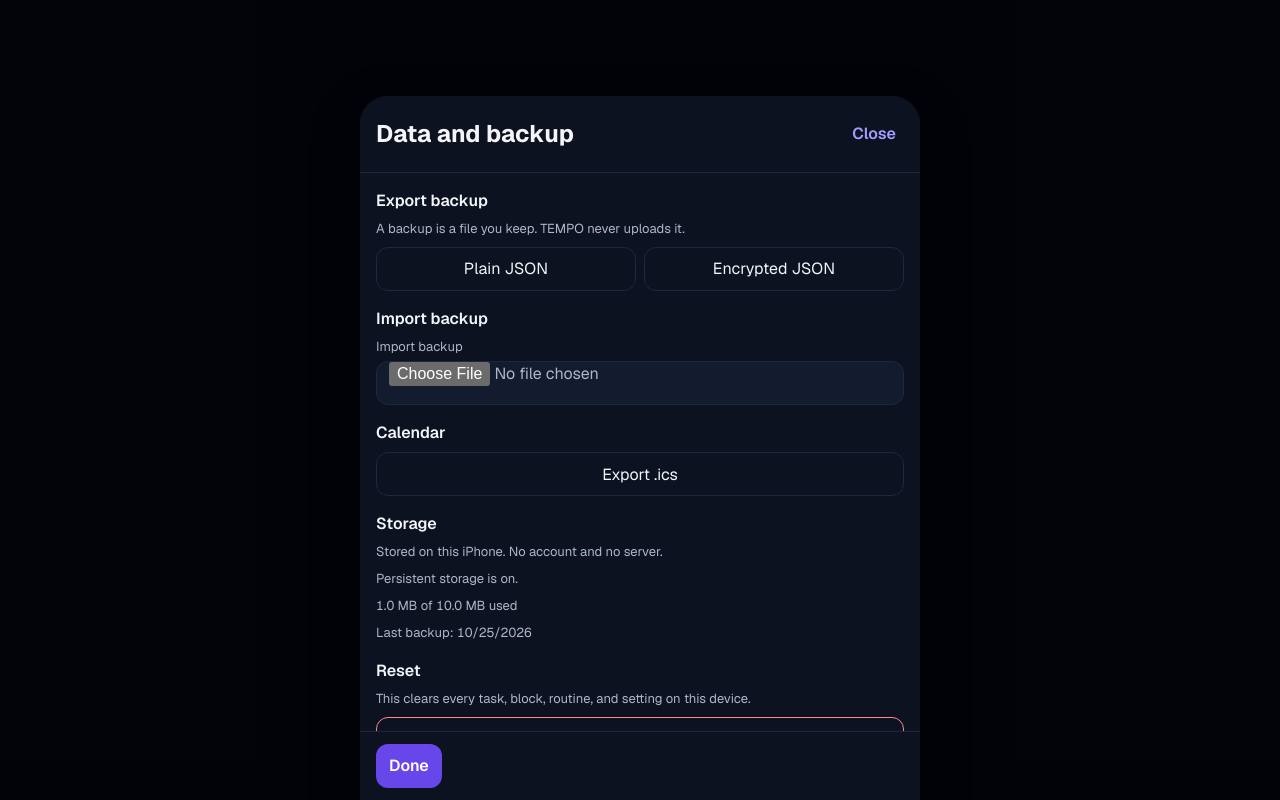
exports a plain backup and requires a long, confirmed passphrase for encryption
Click the button "Plain JSON" at {"x": 506, "y": 269}, box [376,247,636,291]
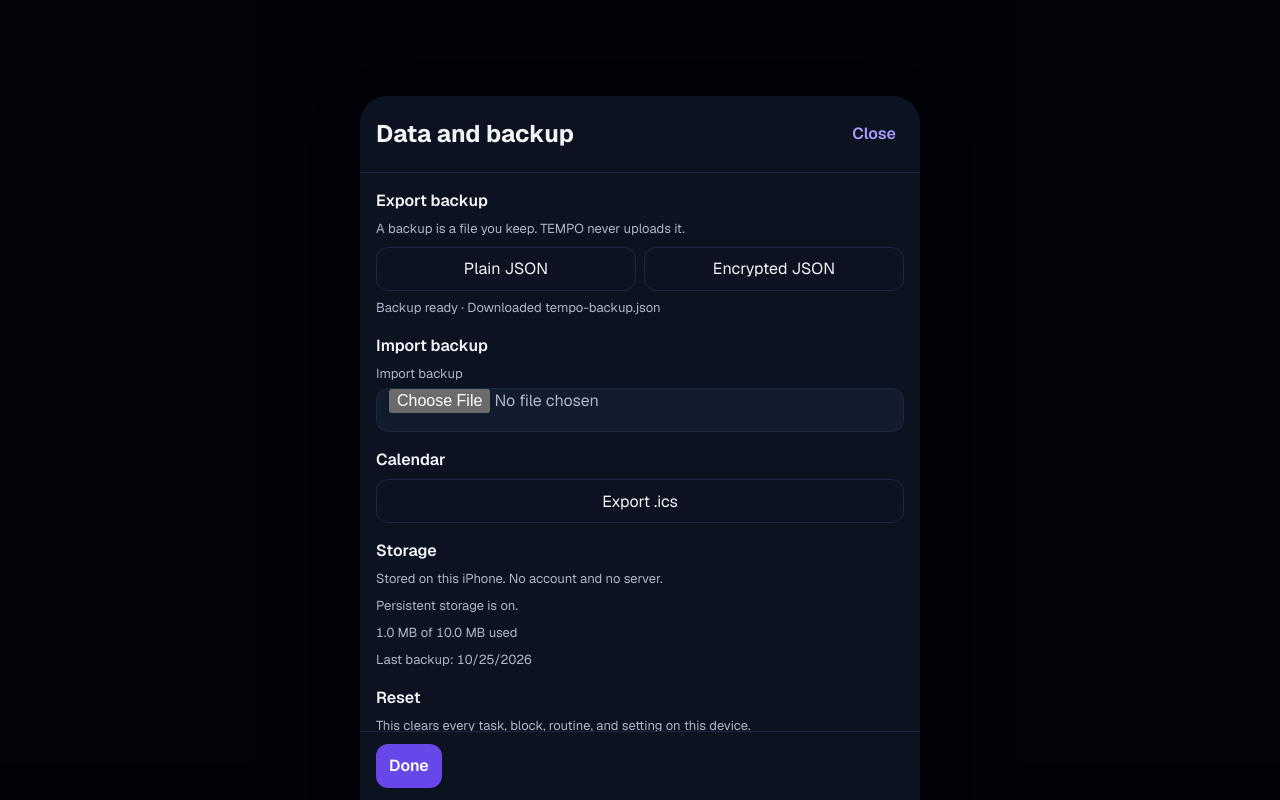
Expected: the text "Backup ready · Downloaded tempo-backup.json" is shown, [376,299,661,316]
Click the button "Encrypted JSON" at {"x": 774, "y": 269}, box [644,247,904,291]
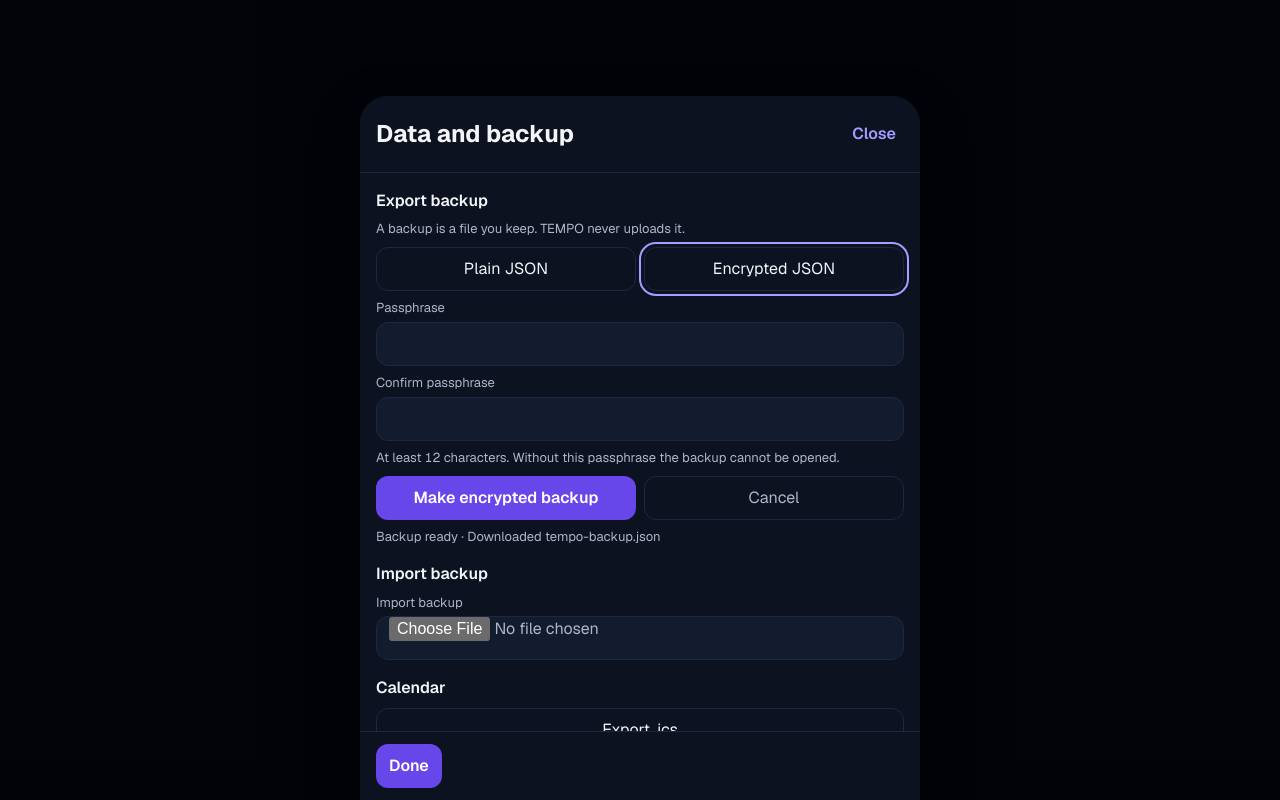
Type "short" into the password field labelled "Passphrase" at {"x": 640, "y": 344}, box [376,322,904,366]
Type "short" into the password field labelled "Confirm passphrase" at {"x": 640, "y": 419}, box [376,397,904,441]
Click the button "Make encrypted backup" at {"x": 506, "y": 498}, box [376,476,636,520]
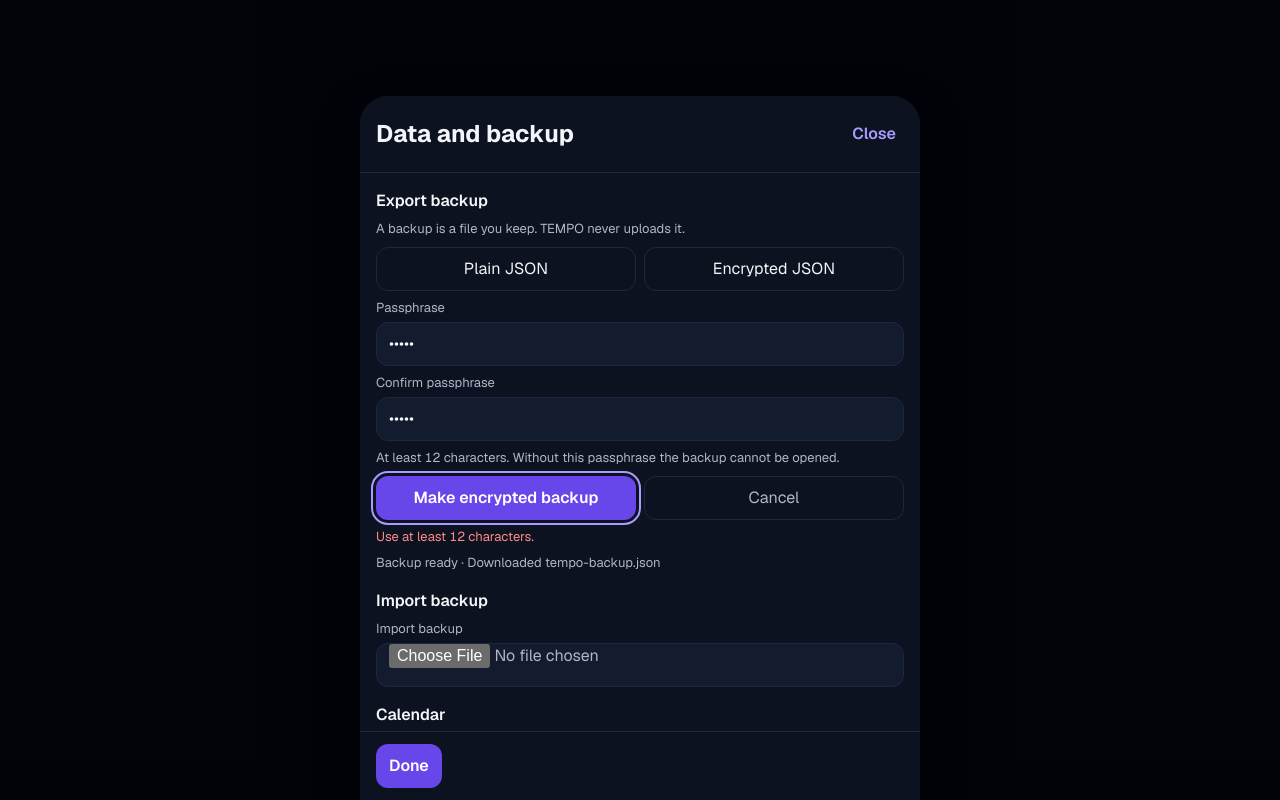
Expected: the message "Use at least 12 characters." is shown, [376,528,534,545]
Type "correct horse battery staple" into the password field labelled "Passphrase" at {"x": 640, "y": 344}, box [376,322,904,366]
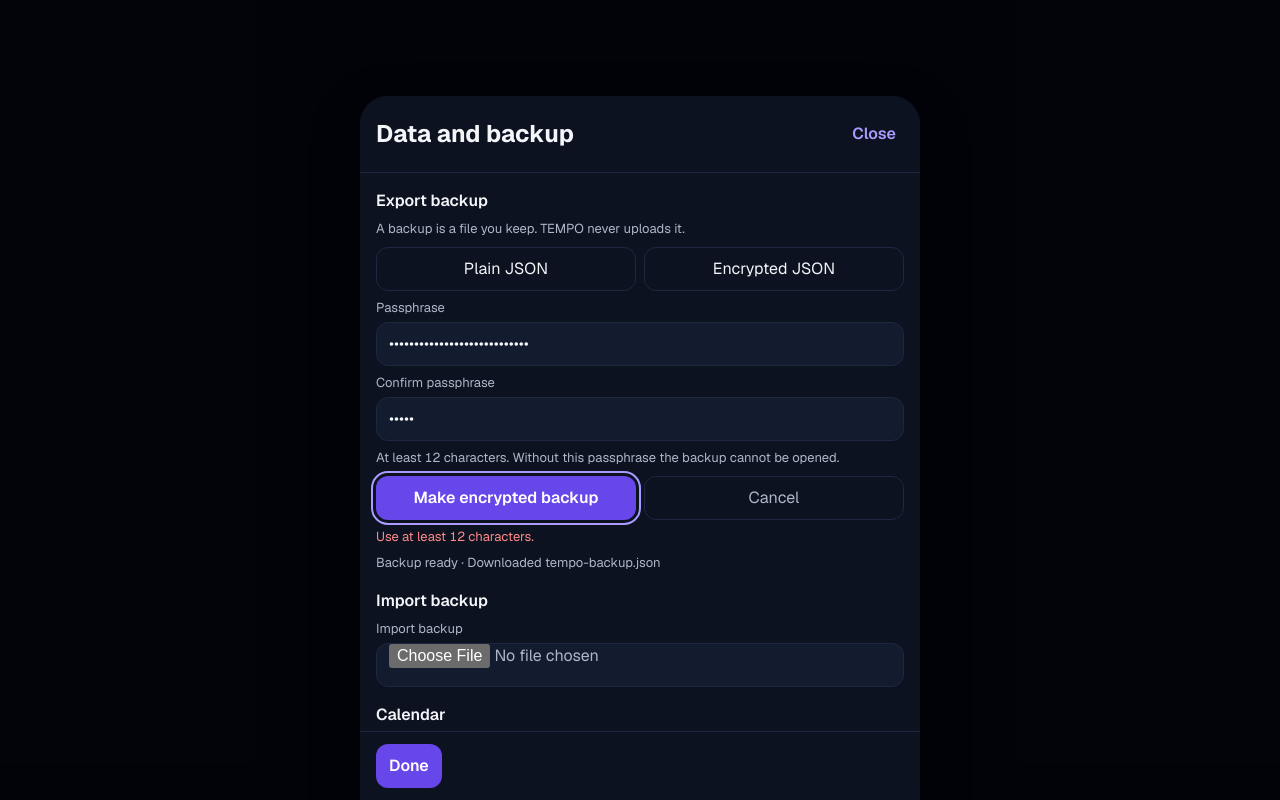
Type "correct horse battery staple" into the password field labelled "Confirm passphrase" at {"x": 640, "y": 419}, box [376,397,904,441]
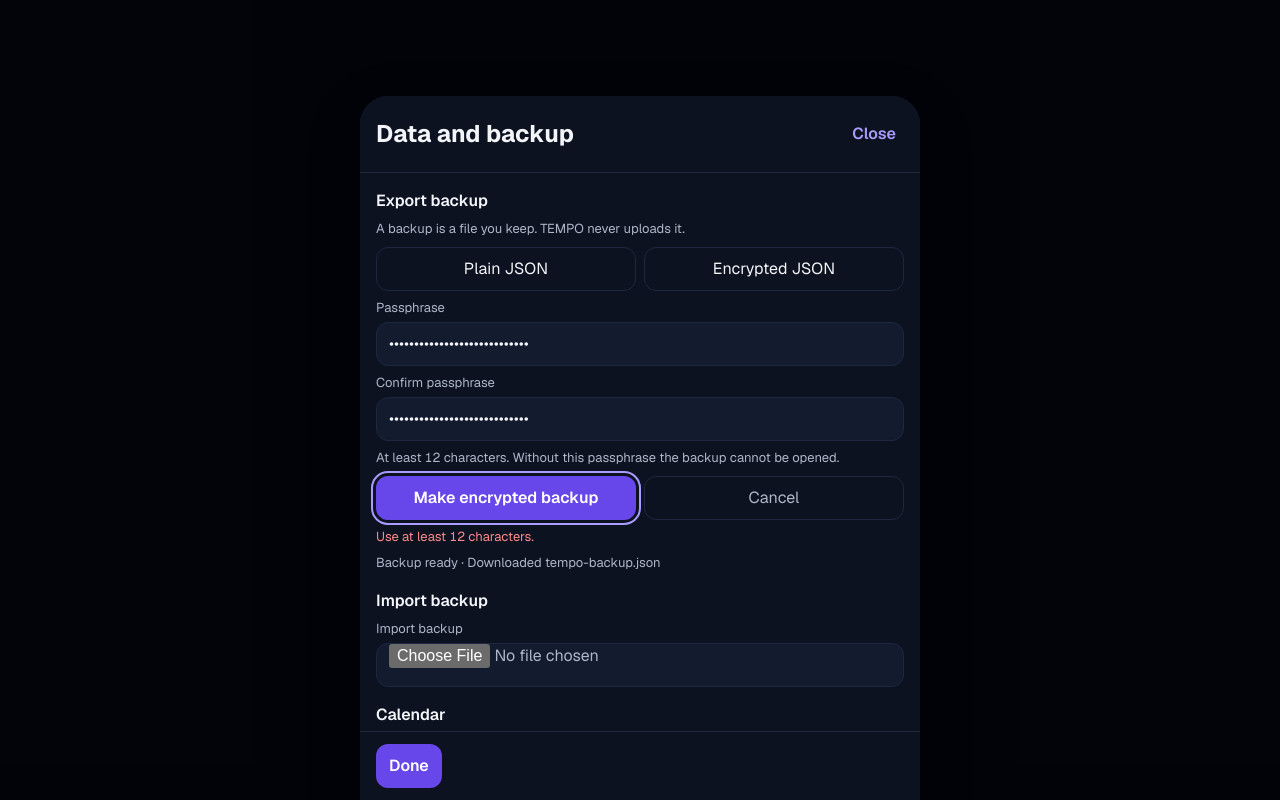
Click the button "Make encrypted backup" at {"x": 506, "y": 498}, box [376,476,636,520]
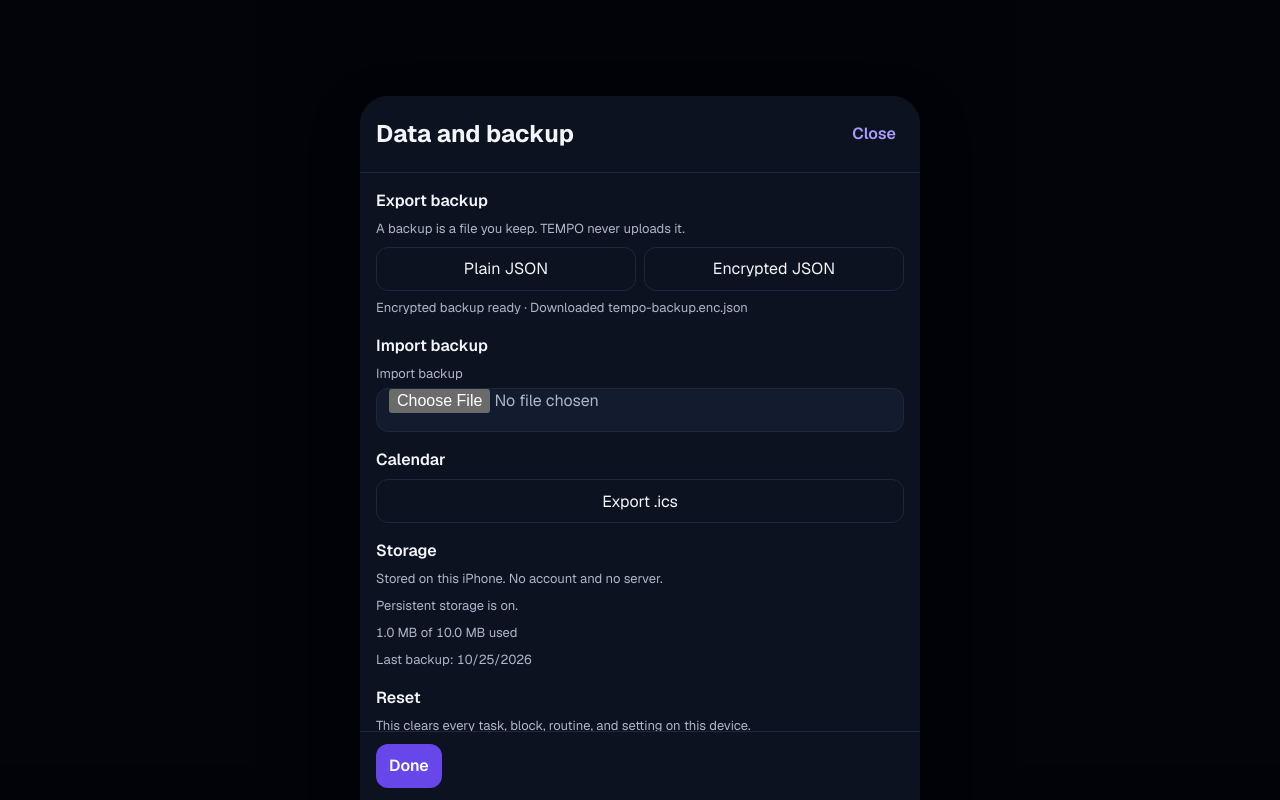
Expected: the text "Encrypted backup ready · Downloaded tempo-backup.enc.json" is shown, [376,299,748,316]
